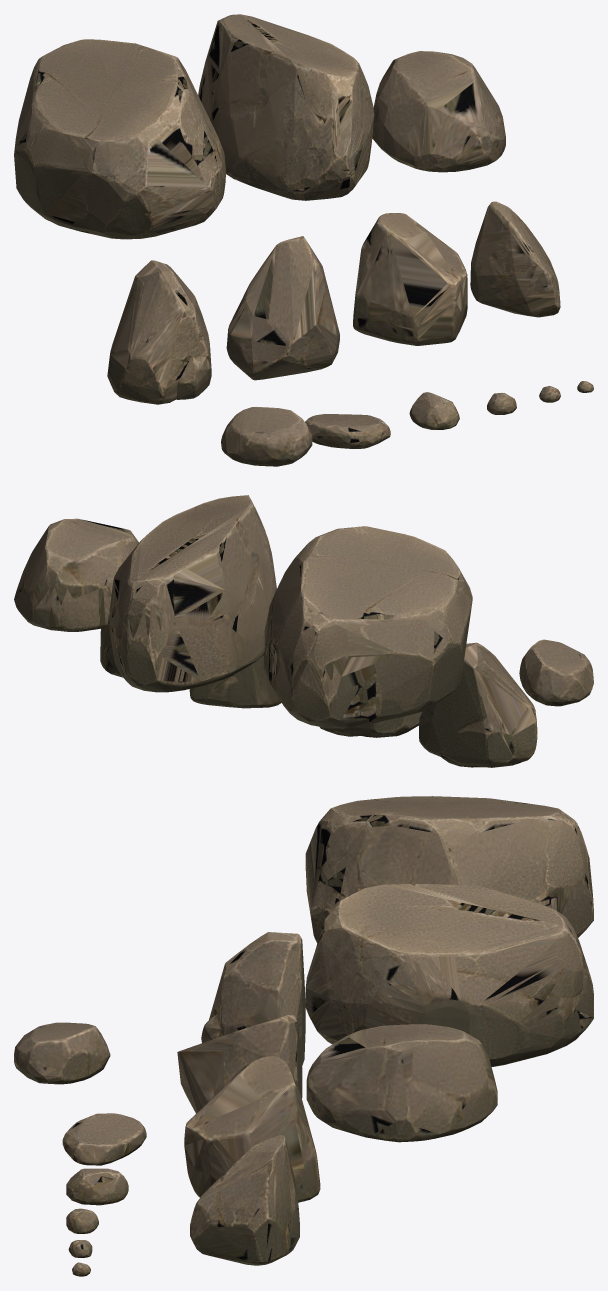
Rendered from Pack_rocas_1_closed.glb.
3 views of the same model, one above another, from view 1: azimuth 30°, elevation 25°; view 2: azimuth 150°, elevation 25°; view 3: azimuth 270°, elevation 25° (orthographic). The views are drawn at different scales.
Visible parts, largest first — view 1: tripo_part_3, tripo_part_1, tripo_part_2, tripo_part_0, tripo_part_4, tripo_part_6, tripo_part_5, tripo_part_14, tripo_part_7, tripo_part_9, tripo_part_8; view 2: tripo_part_3, tripo_part_1, tripo_part_2, tripo_part_6, tripo_part_14, tripo_part_0, tripo_part_4, tripo_part_5; view 3: tripo_part_1, tripo_part_3, tripo_part_2, tripo_part_0, tripo_part_5, tripo_part_6, tripo_part_4, tripo_part_14, tripo_part_7, tripo_part_9, tripo_part_11.
Part boxes in pixels (x1=…): tripo_part_3: x1=14, y1=39, x2=225, y2=239; tripo_part_1: x1=198, y1=14, x2=374, y2=200; tripo_part_2: x1=372, y1=51, x2=505, y2=172; tripo_part_0: x1=353, y1=213, x2=467, y2=345; tripo_part_4: x1=226, y1=236, x2=339, y2=380; tripo_part_6: x1=107, y1=260, x2=211, y2=404; tripo_part_5: x1=470, y1=201, x2=560, y2=317; tripo_part_14: x1=221, y1=407, x2=312, y2=466; tripo_part_7: x1=305, y1=414, x2=390, y2=448; tripo_part_9: x1=409, y1=392, x2=459, y2=429; tripo_part_8: x1=176, y1=356, x2=211, y2=399; tripo_part_3: x1=264, y1=526, x2=472, y2=728; tripo_part_1: x1=109, y1=495, x2=276, y2=692; tripo_part_2: x1=14, y1=518, x2=138, y2=631; tripo_part_6: x1=419, y1=642, x2=537, y2=767; tripo_part_14: x1=519, y1=639, x2=593, y2=706; tripo_part_0: x1=189, y1=654, x2=281, y2=708; tripo_part_4: x1=321, y1=711, x2=421, y2=737; tripo_part_5: x1=100, y1=626, x2=122, y2=677; tripo_part_1: x1=305, y1=884, x2=593, y2=1066; tripo_part_3: x1=305, y1=796, x2=593, y2=943; tripo_part_2: x1=306, y1=1024, x2=497, y2=1142; tripo_part_0: x1=184, y1=1056, x2=320, y2=1202; tripo_part_5: x1=190, y1=1135, x2=299, y2=1265; tripo_part_6: x1=209, y1=932, x2=305, y2=1065; tripo_part_4: x1=177, y1=1015, x2=302, y2=1113; tripo_part_14: x1=14, y1=1022, x2=110, y2=1084; tripo_part_7: x1=62, y1=1113, x2=146, y2=1165; tripo_part_9: x1=66, y1=1168, x2=128, y2=1205; tripo_part_11: x1=66, y1=1208, x2=98, y2=1233.
Size of the model in its own units: 1 by 0.5969 by 1.
Materials: 1 (1 with a texture image).
